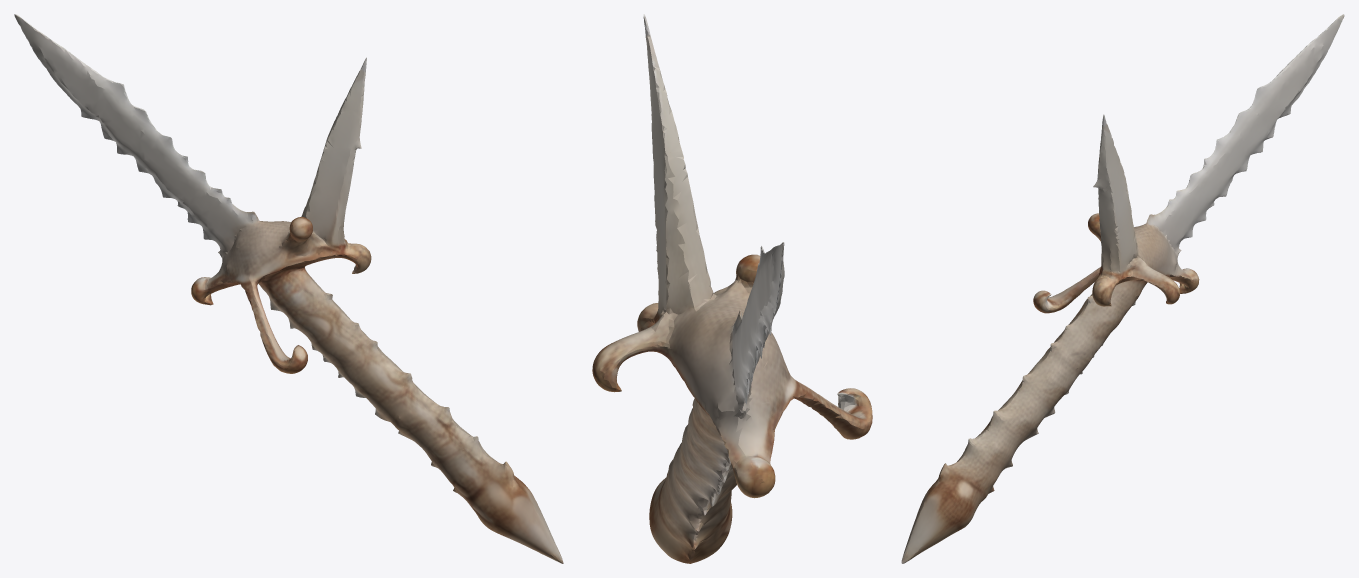
The picture shows the model from 3 angles, left to right: view 1: azimuth 30°, elevation 25°; view 2: azimuth 150°, elevation 25°; view 3: azimuth 270°, elevation 25°; orthographic projection. The views are drawn at different scales.
Parts seen in each view (by area): view 1: MoonlightDagger; view 2: MoonlightDagger; view 3: MoonlightDagger.
Boxes of the visible parts, left/top/right/bottom form: MoonlightDagger: left=14, top=14, right=563, bottom=563; MoonlightDagger: left=592, top=14, right=872, bottom=563; MoonlightDagger: left=901, top=14, right=1344, bottom=563.
Size of the model in its own units: 1.37 by 1.9 by 1.85.
1 material, 1 textured.
